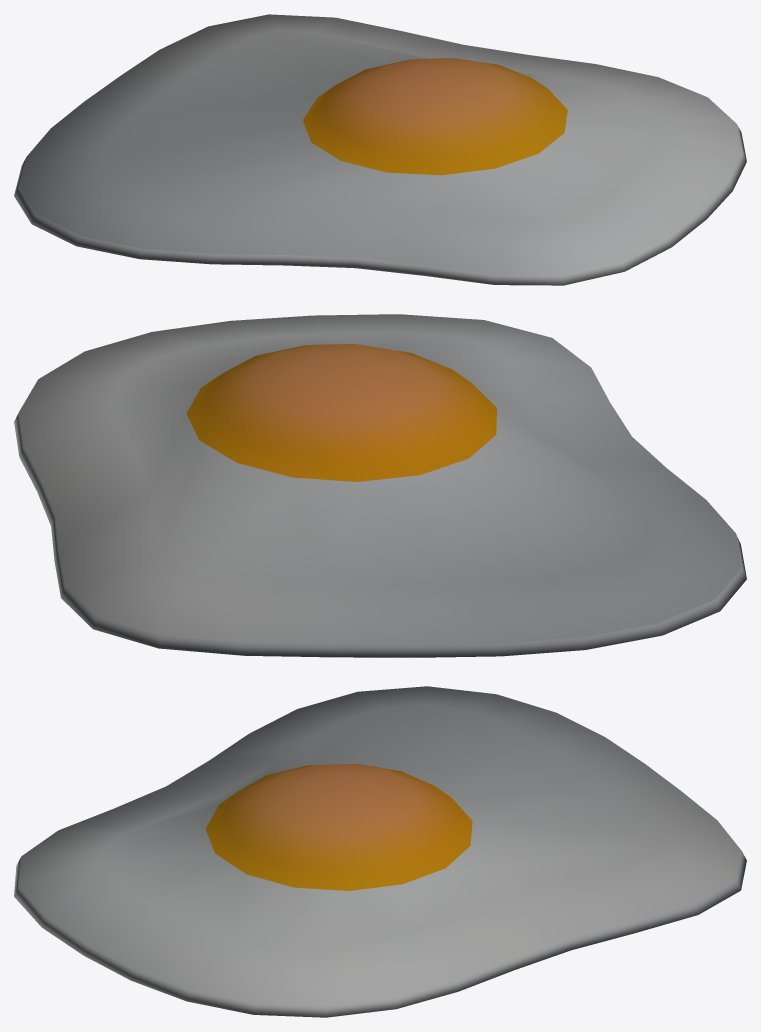
The model's file is Egg_004.glb.
3 views of the same model, one above another, from view 1: azimuth 30°, elevation 25°; view 2: azimuth 150°, elevation 25°; view 3: azimuth 270°, elevation 25° (orthographic). The views are drawn at different scales.
Parts seen in each view (by area): view 1: geometry_0; view 2: geometry_0; view 3: geometry_0.
Part boxes in pixels (x1=…): geometry_0: x1=14, y1=14, x2=746, y2=285; geometry_0: x1=14, y1=314, x2=746, y2=657; geometry_0: x1=14, y1=686, x2=746, y2=1017.
Bounding box in the file's own units: 0.161 × 0.0206 × 0.1538.
1 material, 1 textured.
